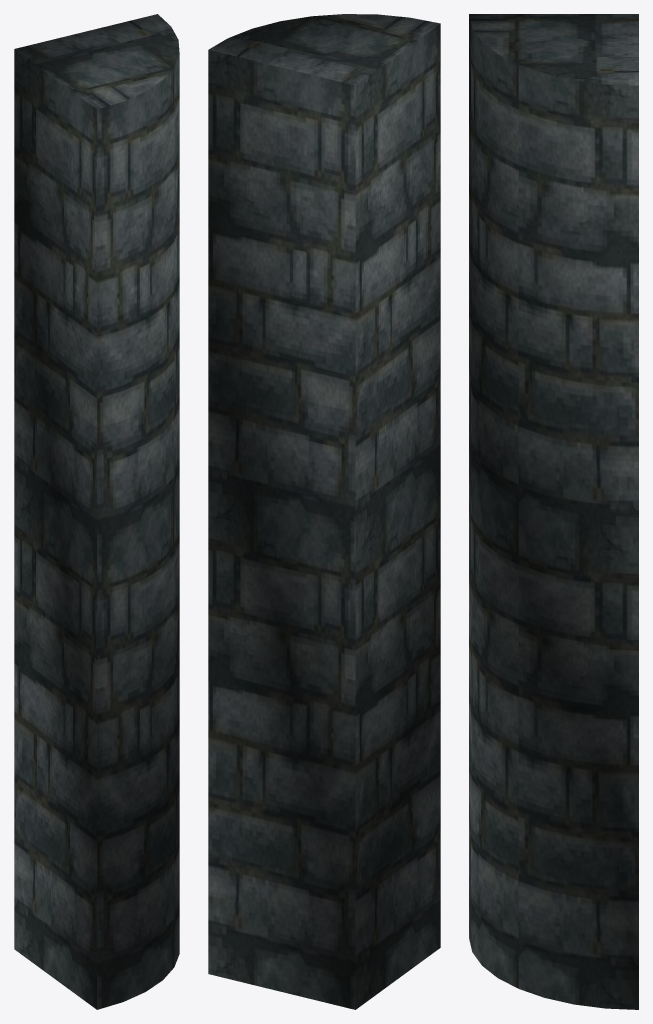
Rendered from dark stone pillar curved small.glb.
3 renders of one model, left to right at view 1: azimuth 30°, elevation 25°; view 2: azimuth 150°, elevation 25°; view 3: azimuth 270°, elevation 25°, orthographic. The views are drawn at different scales.
Parts seen in each view (by area): view 1: Quarter Cylinder; view 2: Quarter Cylinder; view 3: Quarter Cylinder.
Boxes of the visible parts, x1=… form: Quarter Cylinder: x1=14, y1=14, x2=179, y2=1009; Quarter Cylinder: x1=208, y1=14, x2=440, y2=1009; Quarter Cylinder: x1=469, y1=14, x2=638, y2=1009.
Size of the model in its own units: 0.4572 by 2.74 by 0.4572.
Materials: 1 (1 with a texture image).
